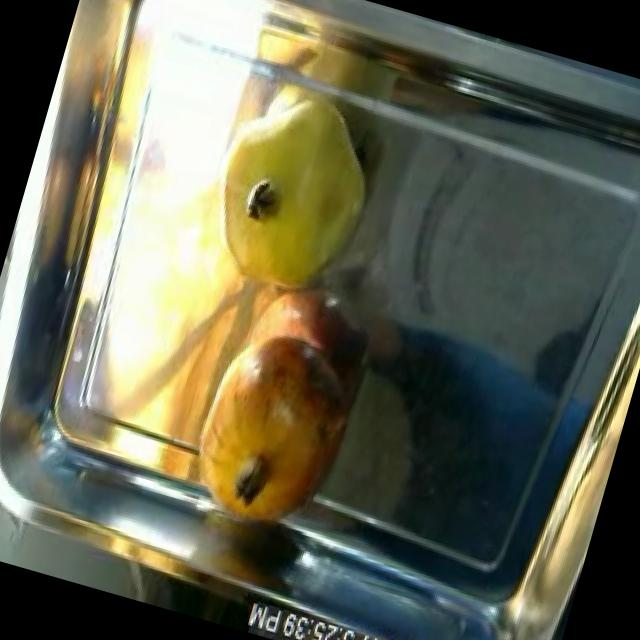fruit: (180, 66, 402, 333), (167, 303, 379, 550)
